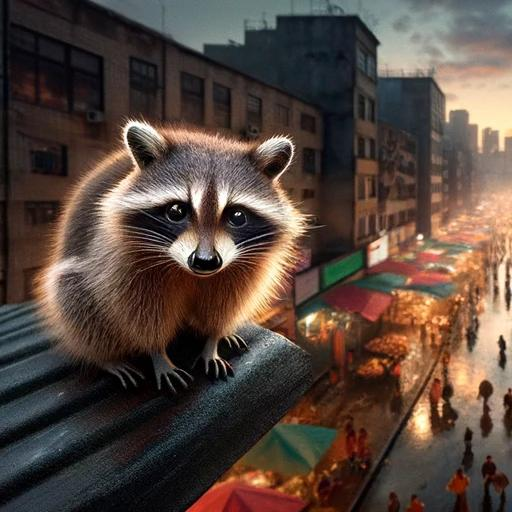raccoon: (38, 112, 310, 391)
